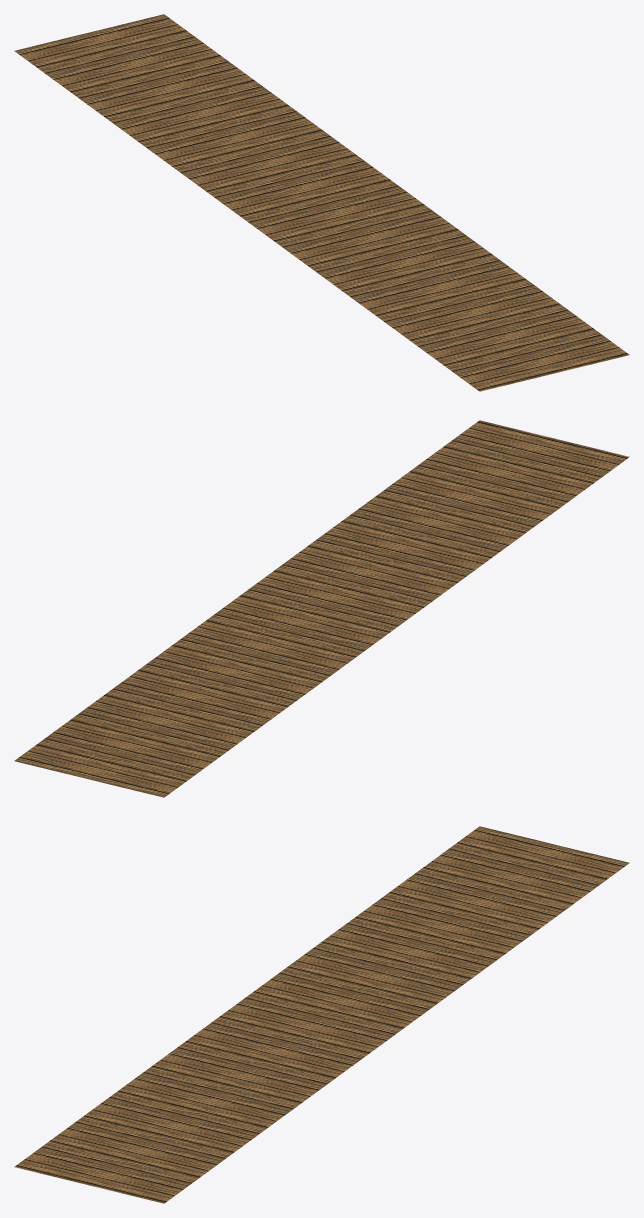
The model's file is LAKETOWN_EXTERIOR_PS_LT_PIER_WOOD10.fbx.
3 views of the same model, one above another, from view 1: azimuth 30°, elevation 25°; view 2: azimuth 150°, elevation 25°; view 3: azimuth 330°, elevation 25° (orthographic).
Visible parts, largest first — view 1: LAKETOWN_EXTERIOR_PS_LT_PIER_WOOD10; view 2: LAKETOWN_EXTERIOR_PS_LT_PIER_WOOD10; view 3: LAKETOWN_EXTERIOR_PS_LT_PIER_WOOD10.
Part boxes in pixels (x1=…): LAKETOWN_EXTERIOR_PS_LT_PIER_WOOD10: x1=14, y1=14, x2=629, y2=391; LAKETOWN_EXTERIOR_PS_LT_PIER_WOOD10: x1=14, y1=420, x2=629, y2=797; LAKETOWN_EXTERIOR_PS_LT_PIER_WOOD10: x1=14, y1=826, x2=629, y2=1203.
Bounding box in the file's own units: 49936 × 0.1074 × 268041.
1 material, 1 textured.
